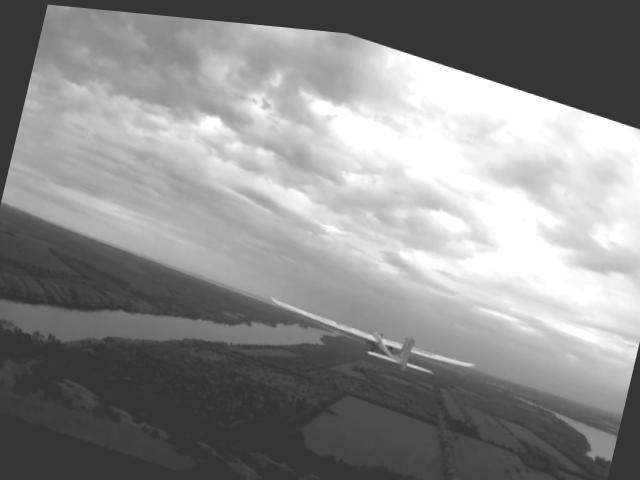hedef: (248, 275, 496, 394)
